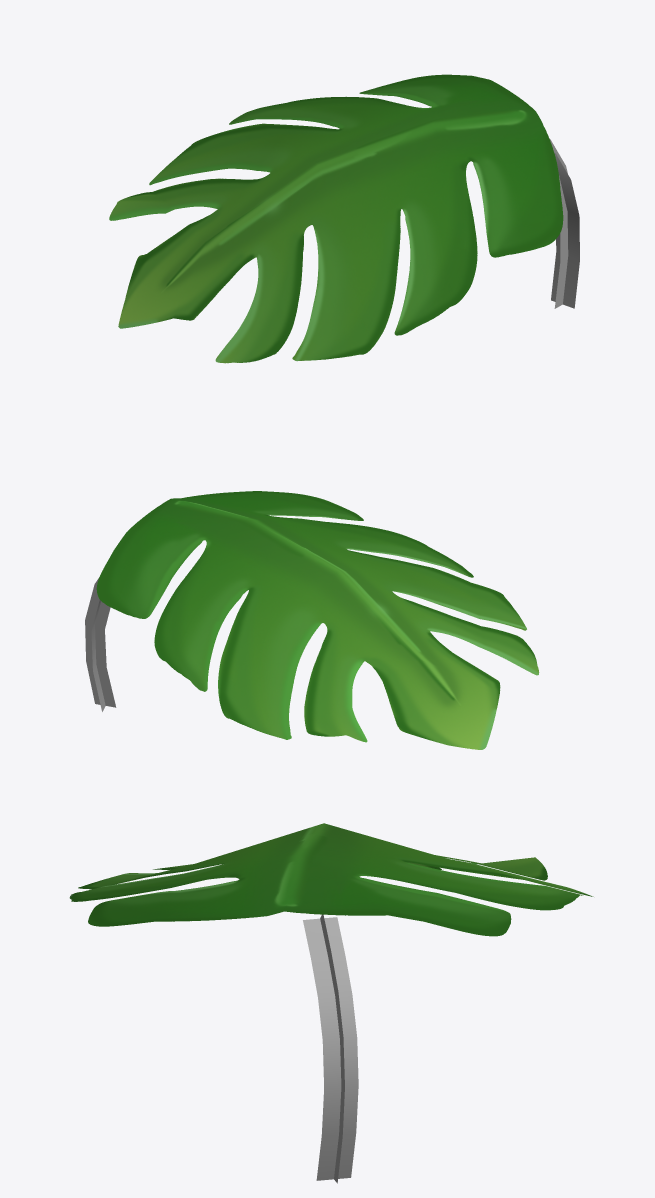
Rendered from HojaGrande1.fbx.
The picture shows the model from 3 angles, top to bottom: view 1: azimuth 30°, elevation 25°; view 2: azimuth 150°, elevation 25°; view 3: azimuth 270°, elevation 25°; orthographic projection. The views are drawn at different scales.
Visible parts, largest first — view 1: HojaGrande1; view 2: HojaGrande1; view 3: HojaGrande1.
Boxes of the visible parts, x1,y1,x2,y2 form: HojaGrande1: [109, 74, 579, 363]; HojaGrande1: [85, 491, 539, 749]; HojaGrande1: [69, 823, 593, 1183].
Size of the model in its own units: 615 by 271 by 617.
2 materials, 1 textured.
